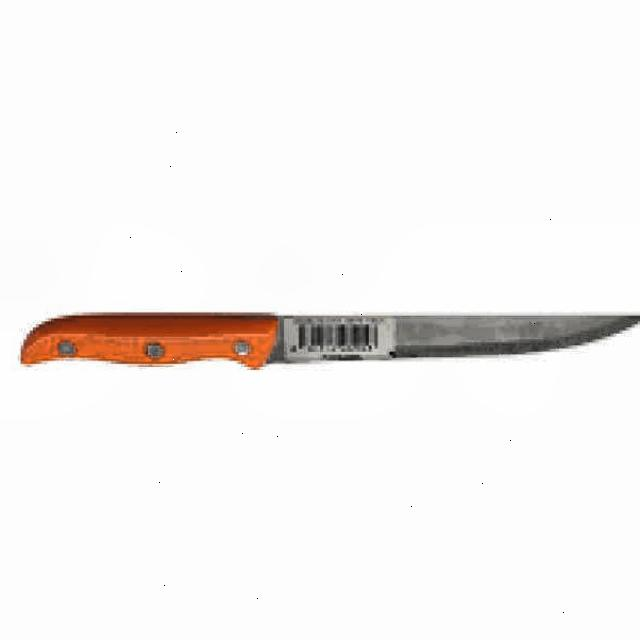knife: (13, 301, 640, 375)
